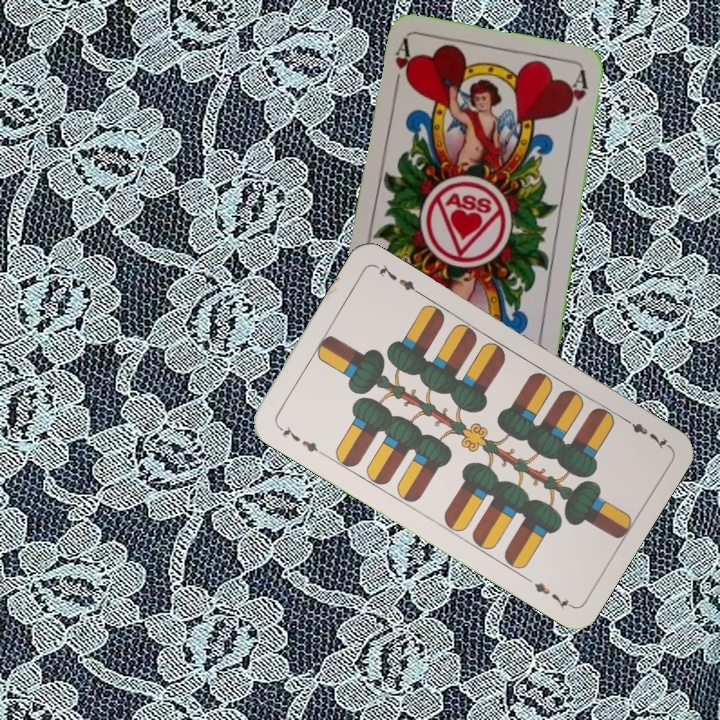E7: (618, 413, 672, 452), (273, 421, 327, 458)
HA: (389, 36, 418, 95)
